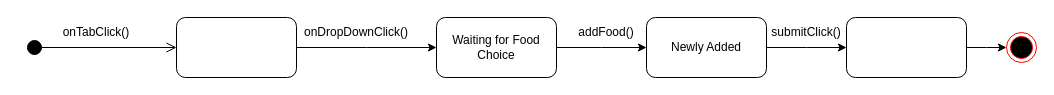
This 1054x95 diagram has some shape labels left out. The centre of each missing label's shape, as x and y in pixels:
Food Choice Saved: point (906, 47)
No Food Item Informarion: point (236, 47)
